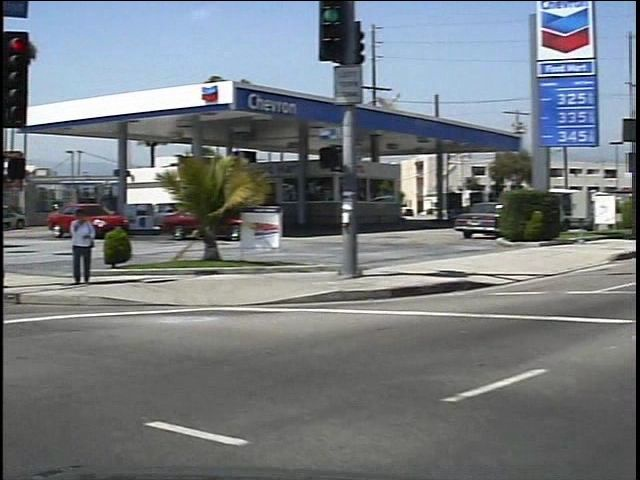person: (57, 203, 90, 290)
